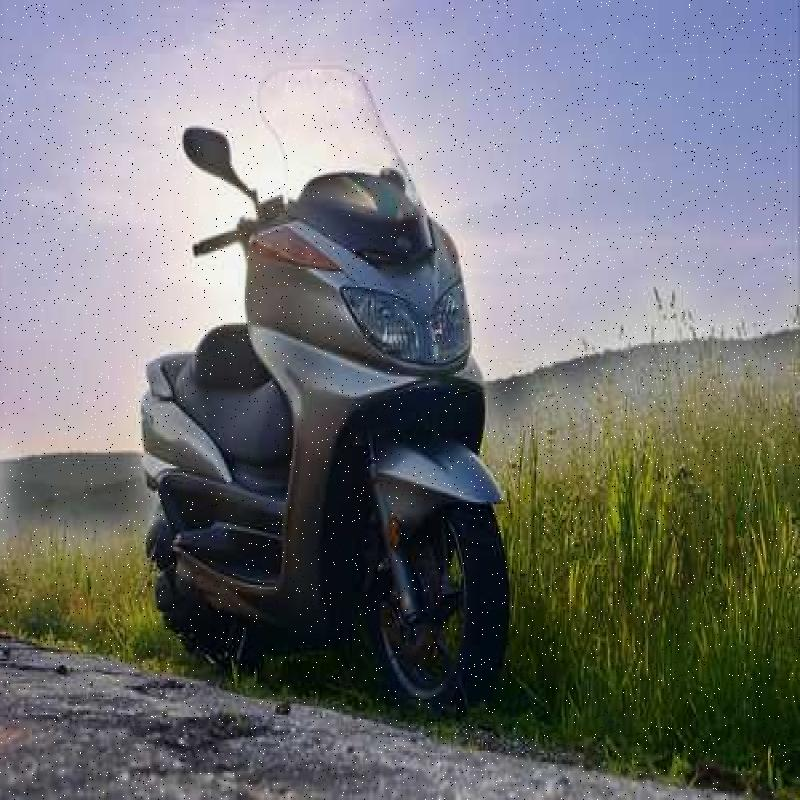bike: (130, 78, 516, 687)
